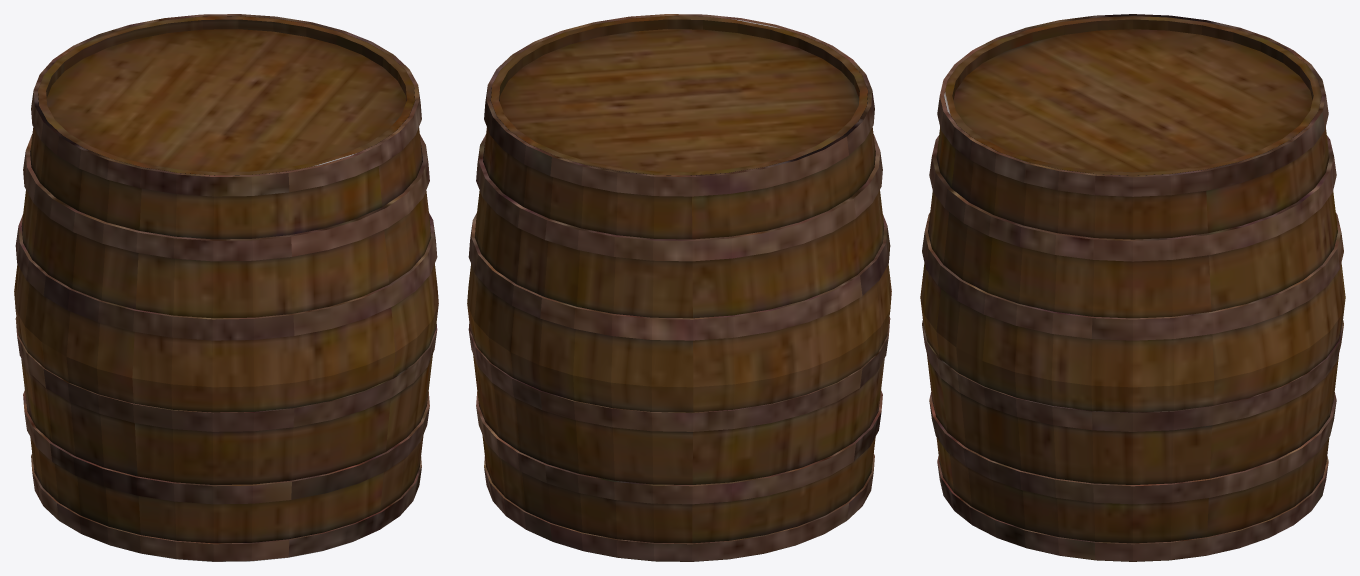
The model's file is sh-bs0-barrel.glb.
3 views of the same model, side by side, from view 1: azimuth 30°, elevation 25°; view 2: azimuth 150°, elevation 25°; view 3: azimuth 270°, elevation 25° (orthographic).
Visible parts, largest first — view 1: Cylinder; view 2: Cylinder; view 3: Cylinder.
Part boxes in pixels (x1=…): Cylinder: x1=14, y1=14, x2=438, y2=561; Cylinder: x1=467, y1=14, x2=891, y2=561; Cylinder: x1=920, y1=14, x2=1345, y2=561.
Size of the model in its own units: 1 by 1 by 1.
2 materials, 2 textured.
